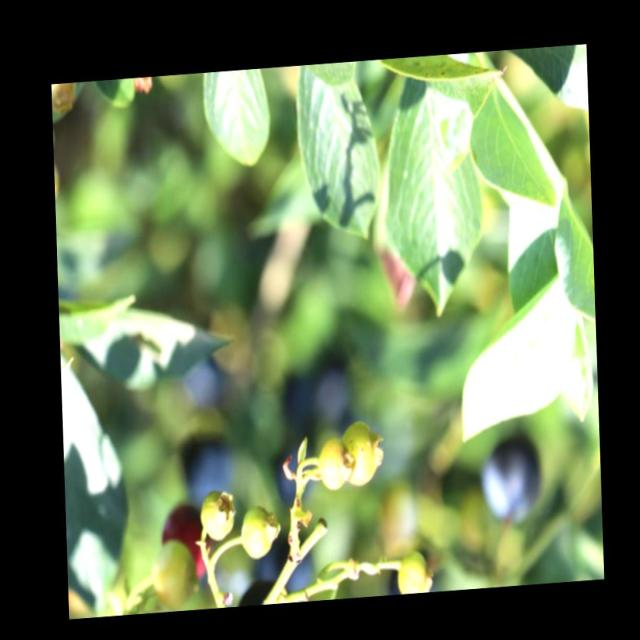blueberry: (477, 434, 546, 523)
blueberry-unripe: (342, 418, 381, 490), (197, 484, 236, 543), (240, 502, 275, 560), (316, 438, 352, 492), (397, 547, 435, 593)
